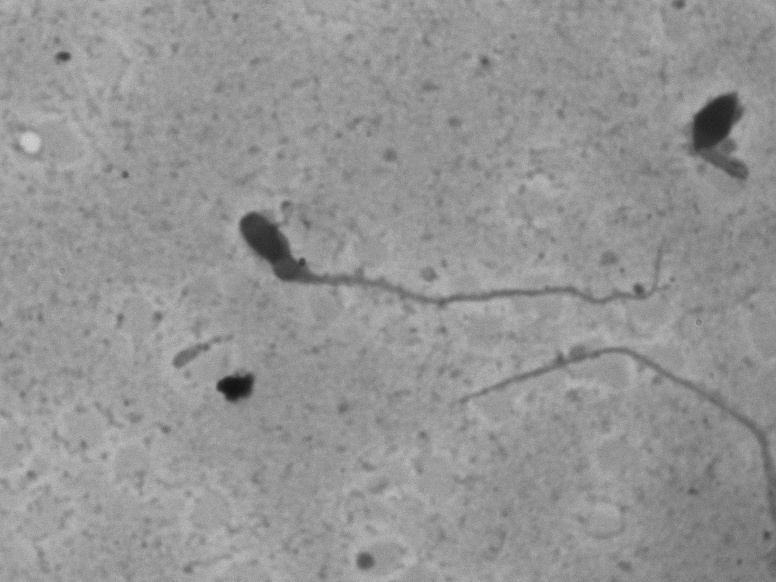Abnormal: (221, 188, 676, 332)
